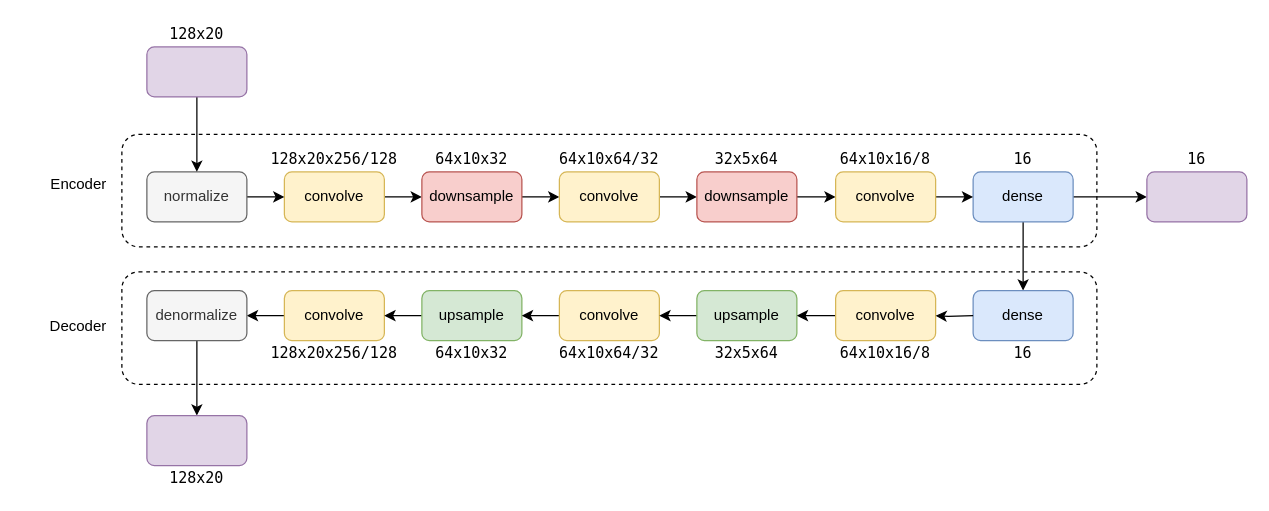
The diagram is 1269 pixels wide and 511 high, and some of its shapes have lost their labels. The centre of each missing label's shape, as x and y in pixels:
"code" goes at point (1196, 196).
"input" goes at point (196, 71).
"output" goes at point (196, 440).
